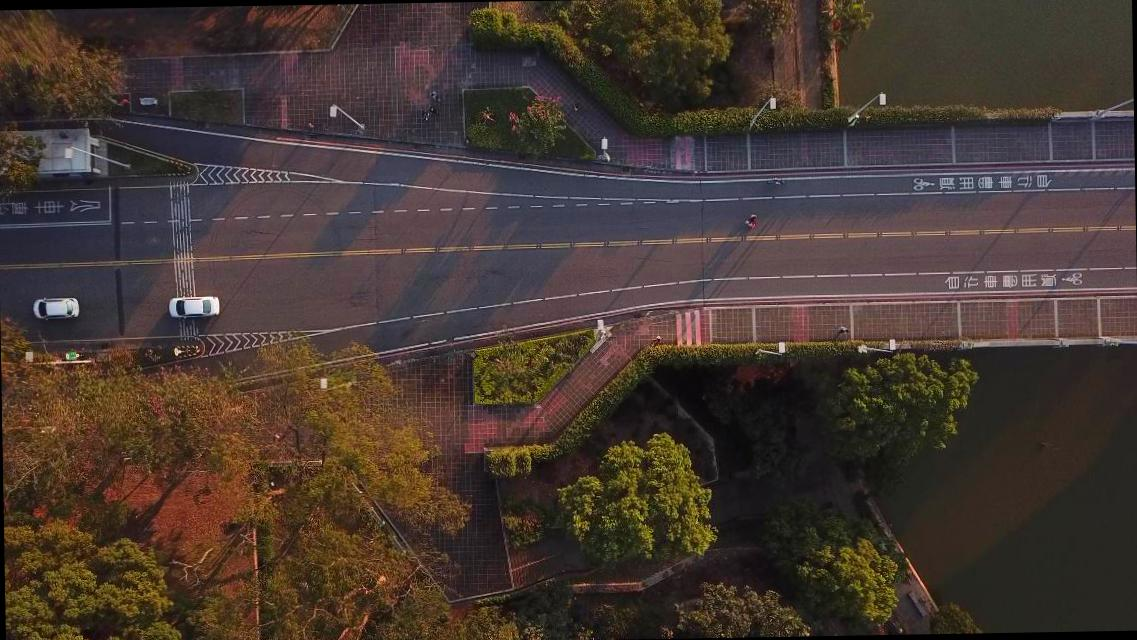vehicle: (168, 295, 220, 319), (32, 296, 80, 320)
